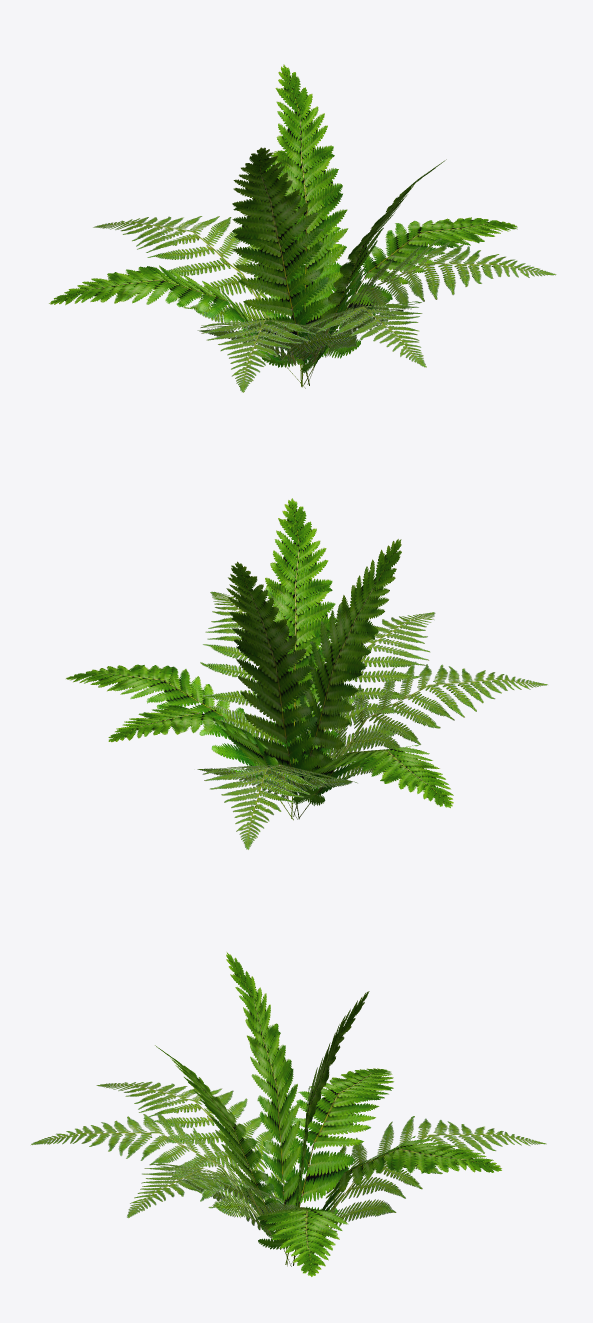
The model's file is prop_fern2.fbx.
3 renders of one model, top to bottom at view 1: azimuth 30°, elevation 25°; view 2: azimuth 150°, elevation 25°; view 3: azimuth 270°, elevation 25°, orthographic. The views are drawn at different scales.
Visible parts, largest first — view 1: pPlane10, pPlane9, pPlane27, pPlane1, pPlane3, pPlane5, pPlane6, pPlane28, pPlane29, pPlane2; view 2: pPlane9, pPlane10, pPlane29, pPlane6, pPlane27, pPlane28, pPlane1, pPlane5, pPlane2, pPlane3; view 3: pPlane10, pPlane5, pPlane28, pPlane1, pPlane6, pPlane27, pPlane2, pPlane3, pPlane29, pPlane9.
Boxes of the visible parts, left/top/right/bottom form: pPlane10: left=232, top=147, right=334, bottom=385; pPlane9: left=268, top=64, right=348, bottom=387; pPlane27: left=303, top=217, right=517, bottom=385; pPlane1: left=93, top=216, right=291, bottom=327; pPlane3: left=325, top=238, right=556, bottom=357; pPlane5: left=49, top=265, right=305, bottom=388; pPlane6: left=197, top=320, right=356, bottom=392; pPlane28: left=259, top=301, right=426, bottom=367; pPlane29: left=301, top=159, right=446, bottom=384; pPlane2: left=256, top=150, right=341, bottom=386; pPlane9: left=226, top=561, right=323, bottom=819; pPlane10: left=287, top=539, right=401, bottom=816; pPlane29: left=255, top=498, right=339, bottom=818; pPlane6: left=320, top=661, right=547, bottom=787; pPlane27: left=66, top=664, right=293, bottom=820; pPlane28: left=284, top=612, right=435, bottom=761; pPlane1: left=197, top=764, right=357, bottom=849; pPlane5: left=292, top=744, right=453, bottom=817; pPlane2: left=108, top=705, right=297, bottom=819; pPlane3: left=200, top=591, right=356, bottom=750; pPlane10: left=226, top=952, right=302, bottom=1266; pPlane5: left=273, top=1068, right=393, bottom=1264; pPlane28: left=30, top=1113, right=260, bottom=1220; pPlane1: left=324, top=1116, right=546, bottom=1228; pPlane6: left=96, top=1081, right=297, bottom=1207; pPlane27: left=256, top=1207, right=348, bottom=1276; pPlane2: left=291, top=1136, right=501, bottom=1263; pPlane3: left=127, top=1163, right=300, bottom=1237; pPlane29: left=155, top=1045, right=291, bottom=1266; pPlane9: left=292, top=991, right=369, bottom=1250.
Bounding box in the file's own units: 2.28 × 1.45 × 2.25.
